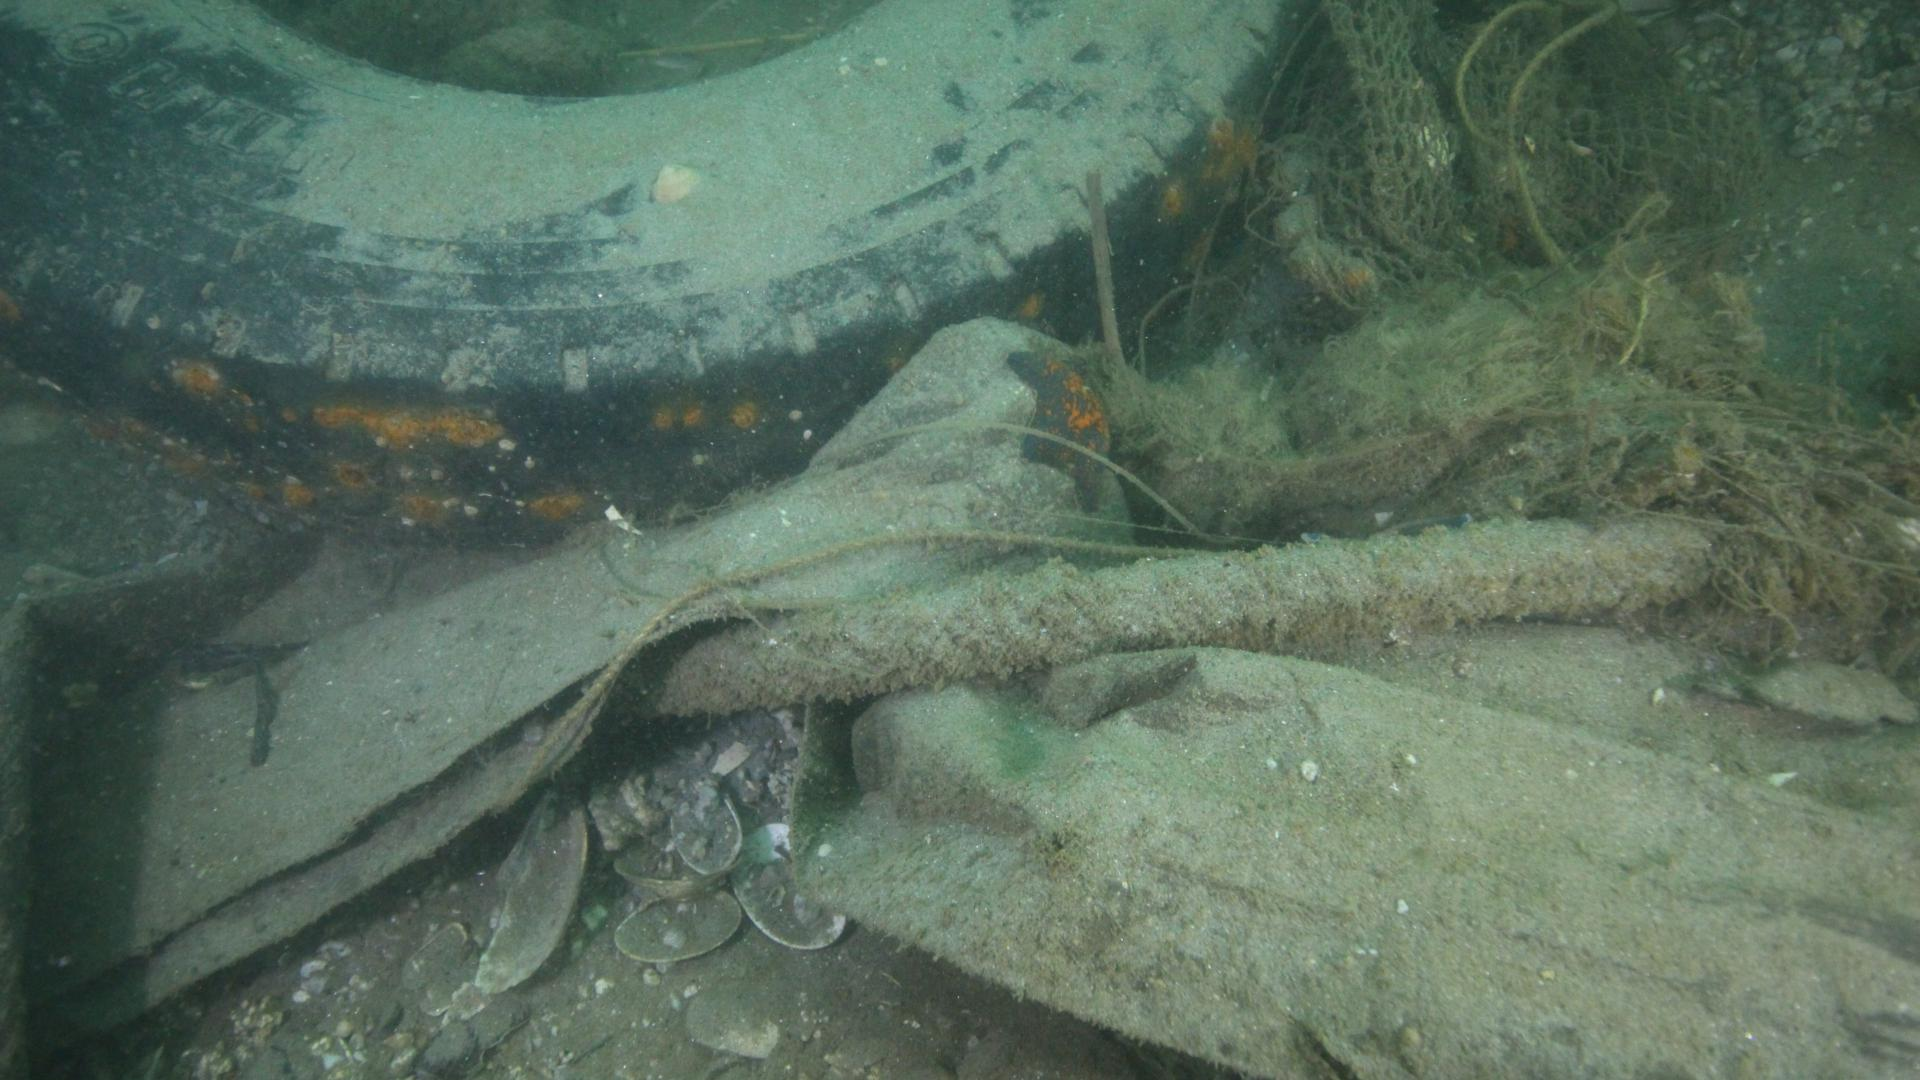fish net: (1307, 0, 1772, 276)
rope: (642, 514, 1709, 717)
tire: (0, 0, 1294, 538)
